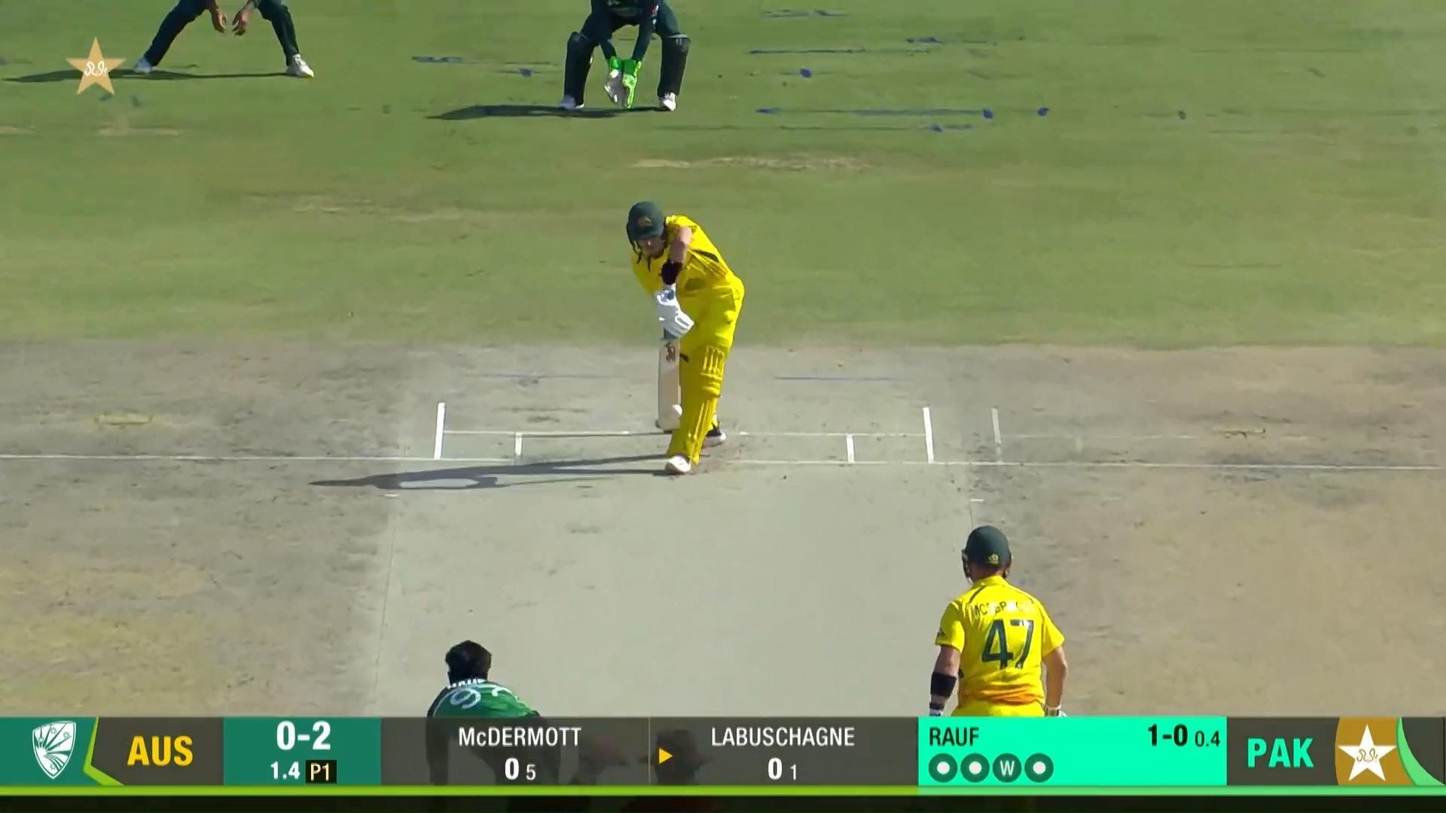BM 1: (625, 199, 746, 477)
BO: (422, 638, 631, 805)
